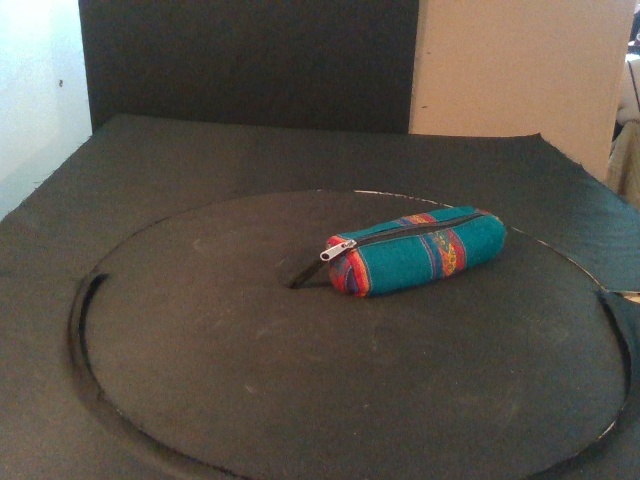pencil_case: (323, 205, 509, 298)
